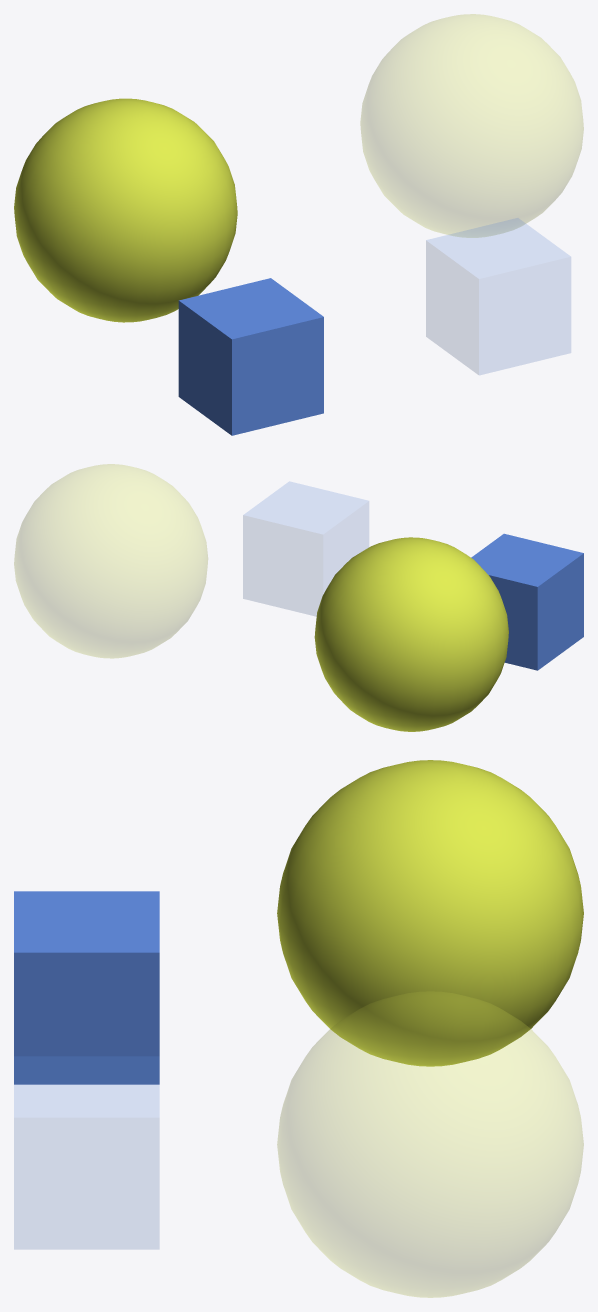
File: shadow_caster_blending.glb
3 renders of one model, top to bottom at view 1: azimuth 30°, elevation 25°; view 2: azimuth 150°, elevation 25°; view 3: azimuth 270°, elevation 25°, orthographic. The views are drawn at different scales.
Parts seen in each view (by area): view 1: Sphere, Sphere.001, Cube, Cube.001; view 2: Sphere, Sphere.001, Cube.001, Cube; view 3: Sphere, Sphere.001, Cube, Cube.001.
Part boxes in pixels (bbox=[...]): Sphere: bbox=[14, 98, 237, 322]; Sphere.001: bbox=[360, 14, 583, 237]; Cube: bbox=[178, 278, 323, 435]; Cube.001: bbox=[426, 218, 570, 374]; Sphere: bbox=[314, 537, 508, 731]; Sphere.001: bbox=[14, 464, 207, 658]; Cube.001: bbox=[243, 481, 368, 615]; Cube: bbox=[471, 533, 583, 670]; Sphere: bbox=[277, 760, 583, 1066]; Sphere.001: bbox=[277, 991, 583, 1297]; Cube: bbox=[14, 891, 159, 1084]; Cube.001: bbox=[14, 1056, 159, 1249].
Size of what is drawn, in the model's own units: 11.73 by 4.24 by 7.83.
